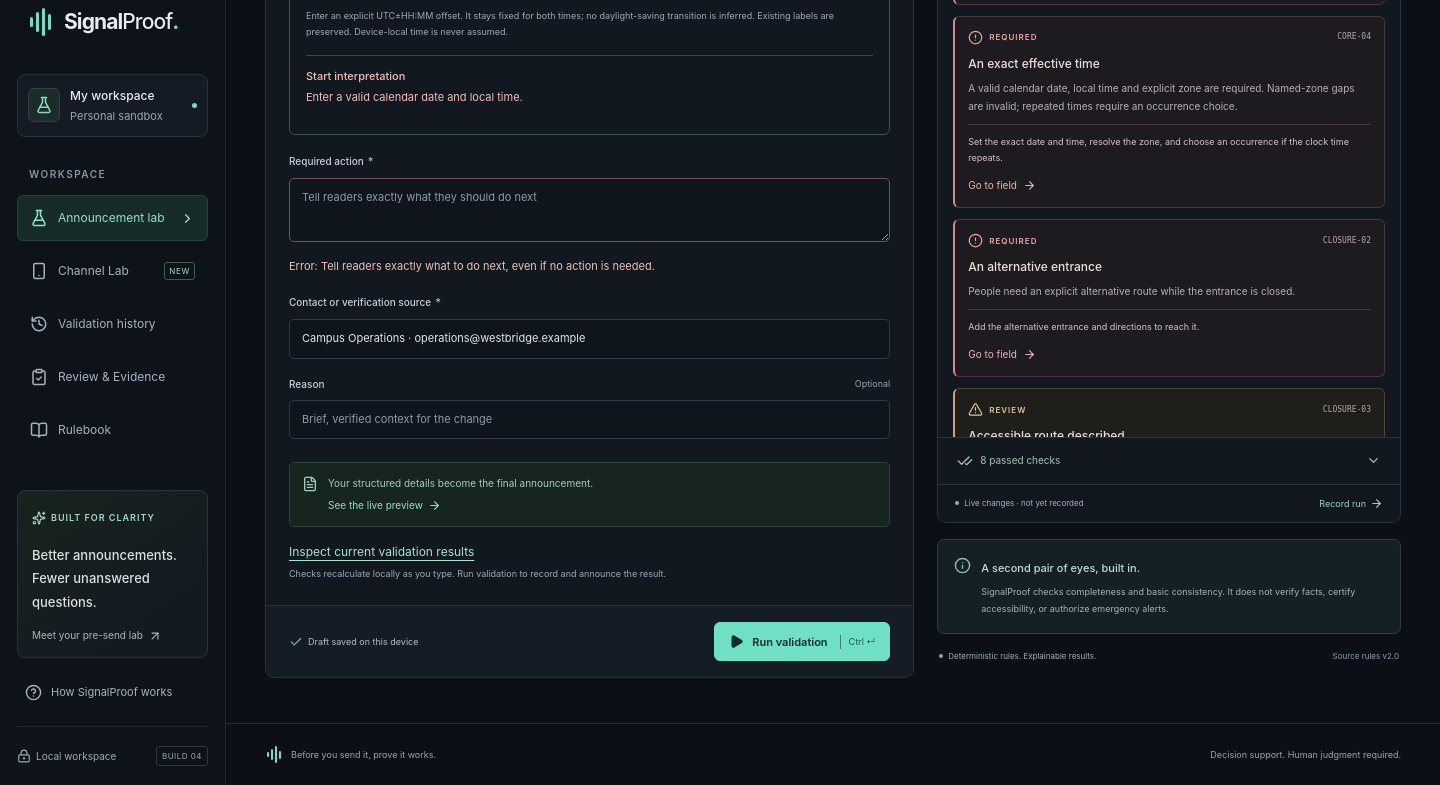
Test: release time controls and accessibility › locks evidence writes on a cross-tab change while preserving the editor and in-memory records
(page scrolled)
Click the button "Run validation Ctrl ↵".
click(802, 642)  # box [714,622,890,661]
(page scrolled)
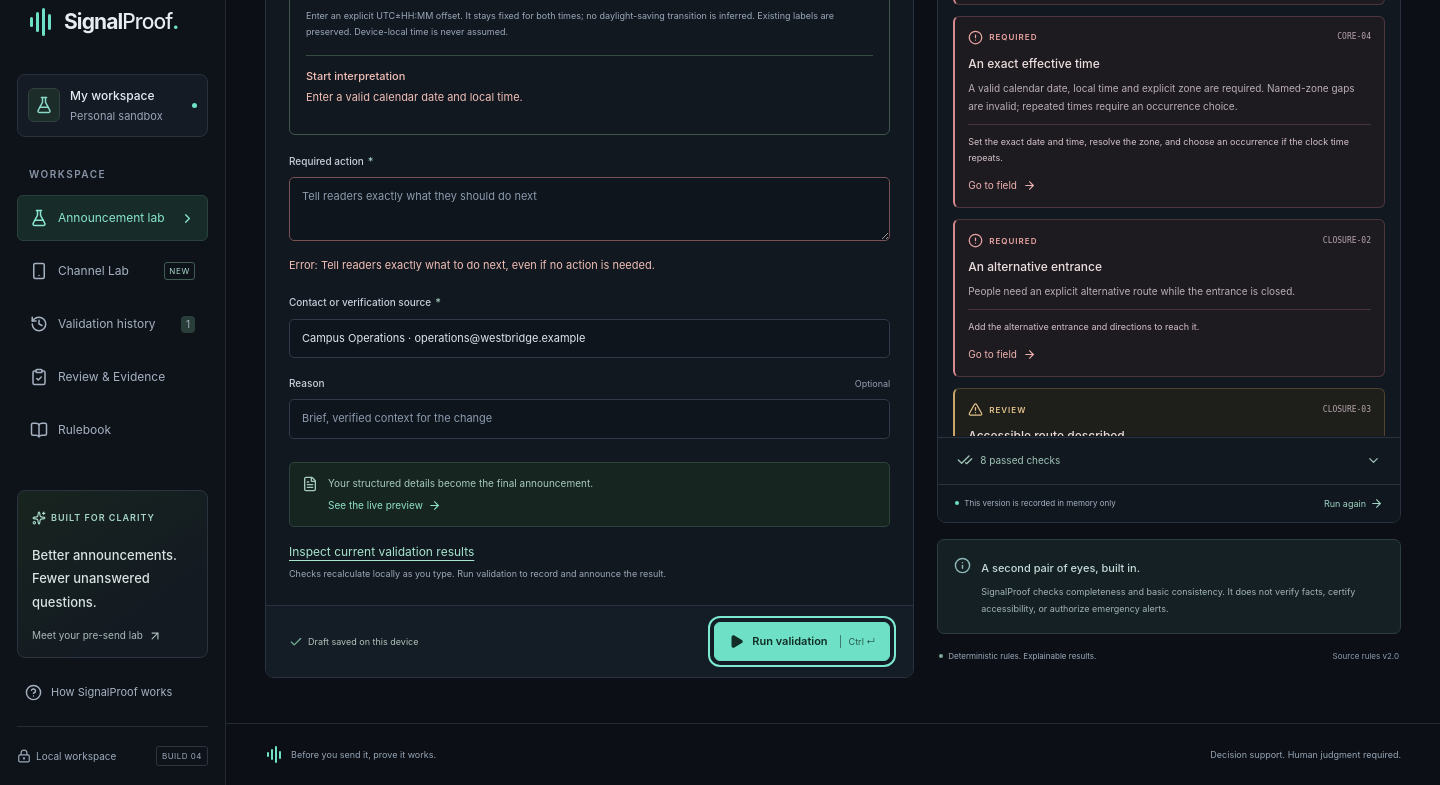
Click the button "Run validation Ctrl ↵".
click(802, 642)  # box [714,622,890,661]
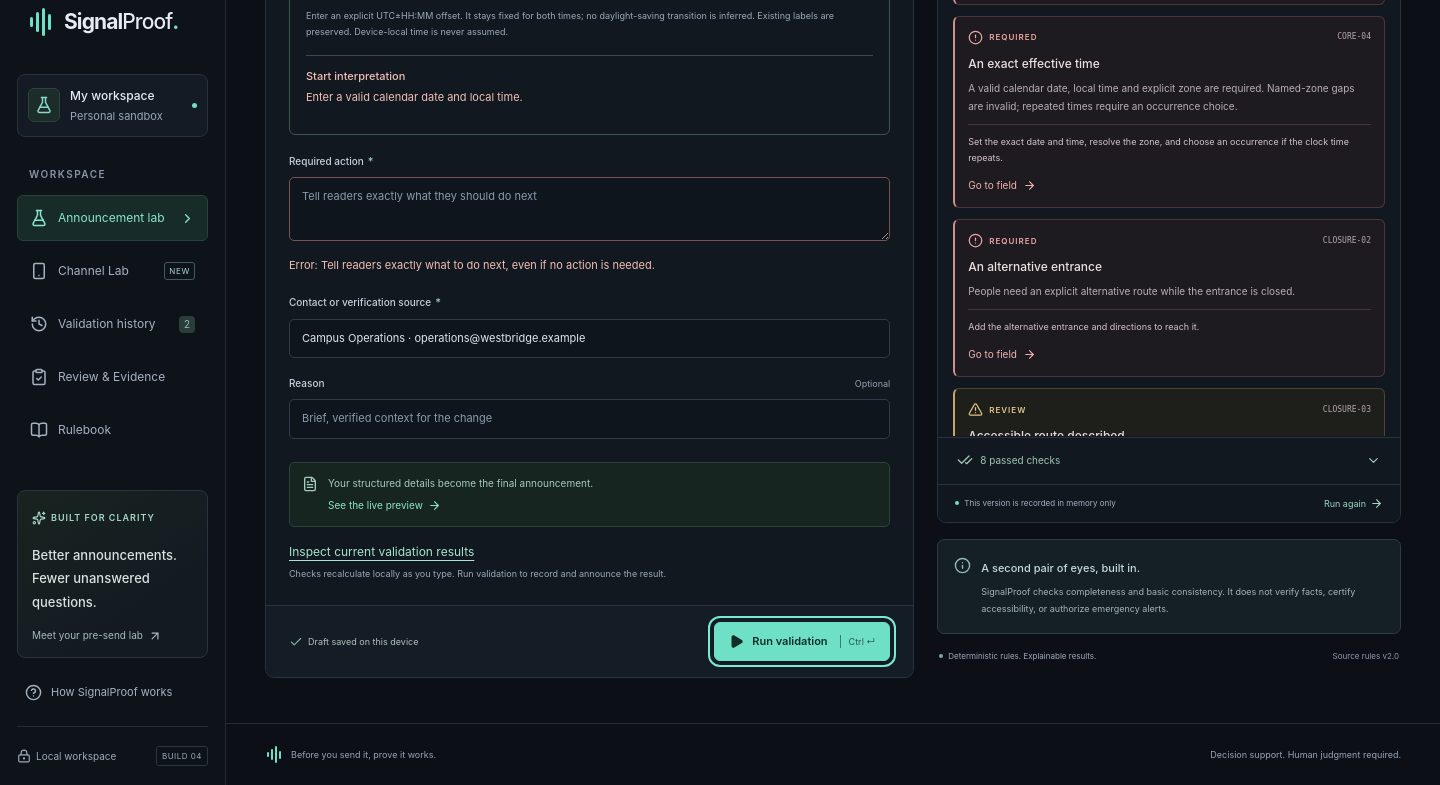
Click the button "Validation history 2".
click(112, 324)  # box [17,301,208,347]
(page scrolled)
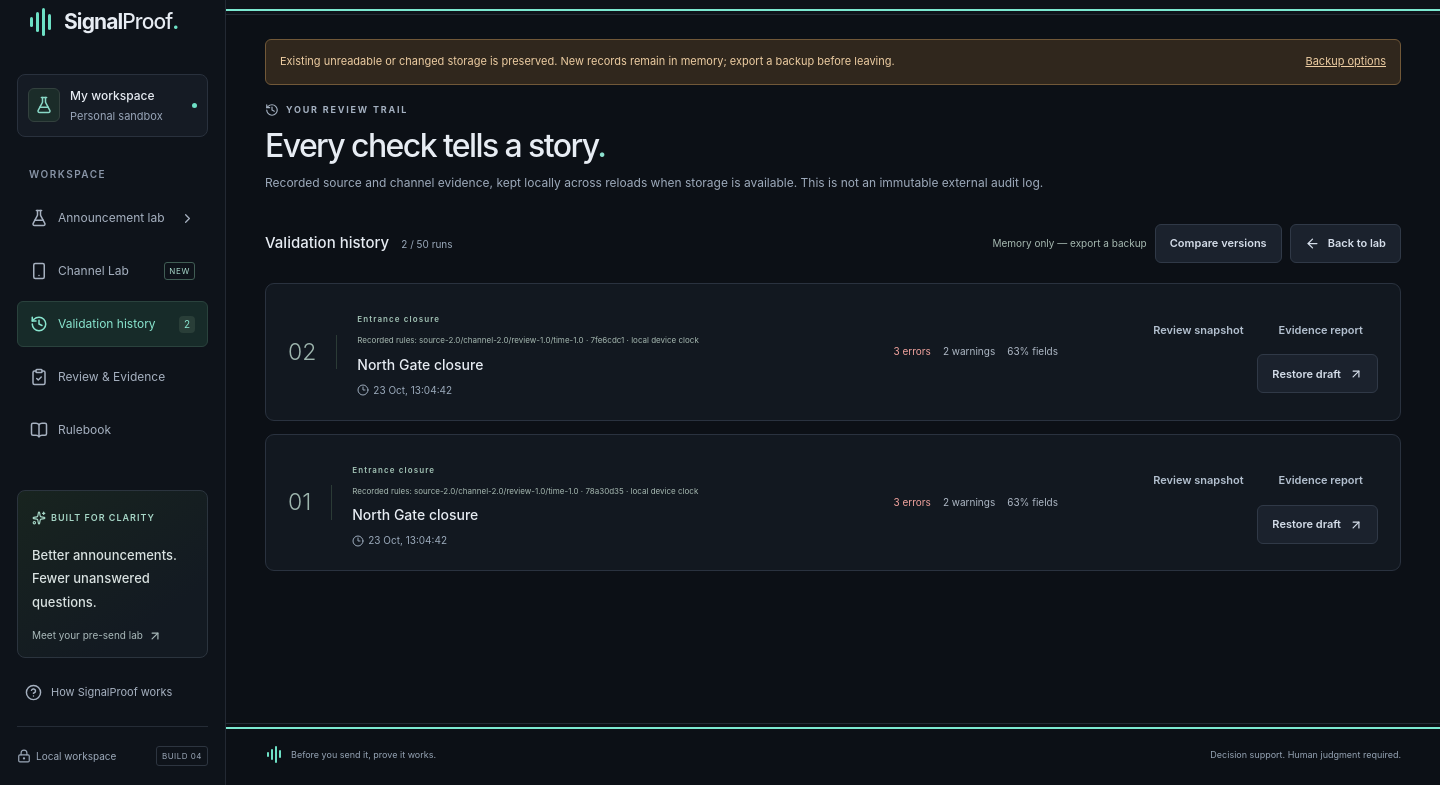
Result: the number of buttons "Restore draft" is 2 at [1257,354,1378,393]; [1257,505,1378,544]
Result: the text "Memory only — export a backup" is shown at [992,234,1147,253]
